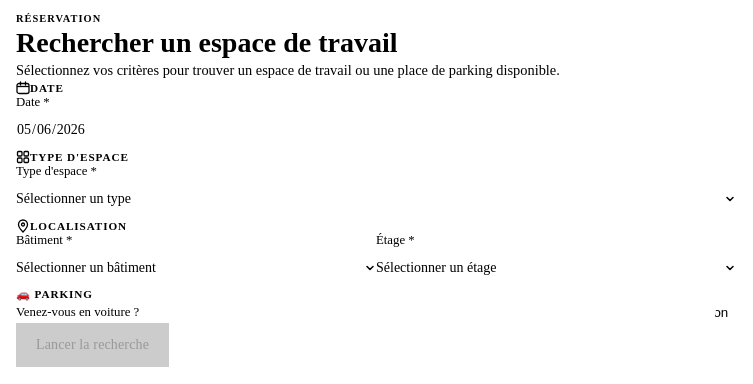
WsbSearchPage — dropdown Étage › affiche les 4 niveaux dans l'ordre
Click the dropdown with id "search-floor" at coordinates (436, 268), box [376,248,736,288]
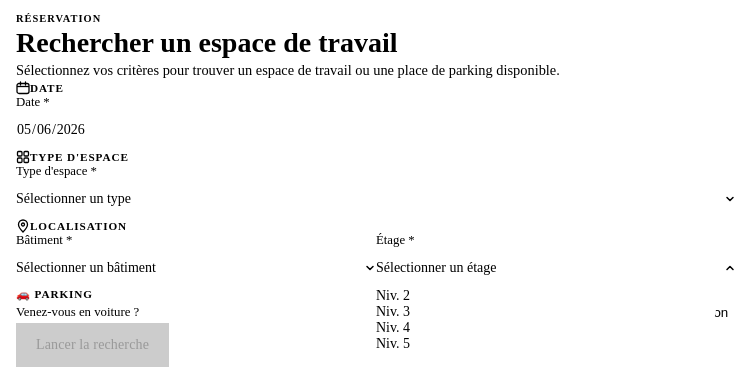
Check: the option "Niv. 2" is shown, box [376,288,736,304]
Check: the option "Niv. 3" is shown, box [376,304,410,319]
Check: the option "Niv. 4" is shown, box [376,320,410,335]
